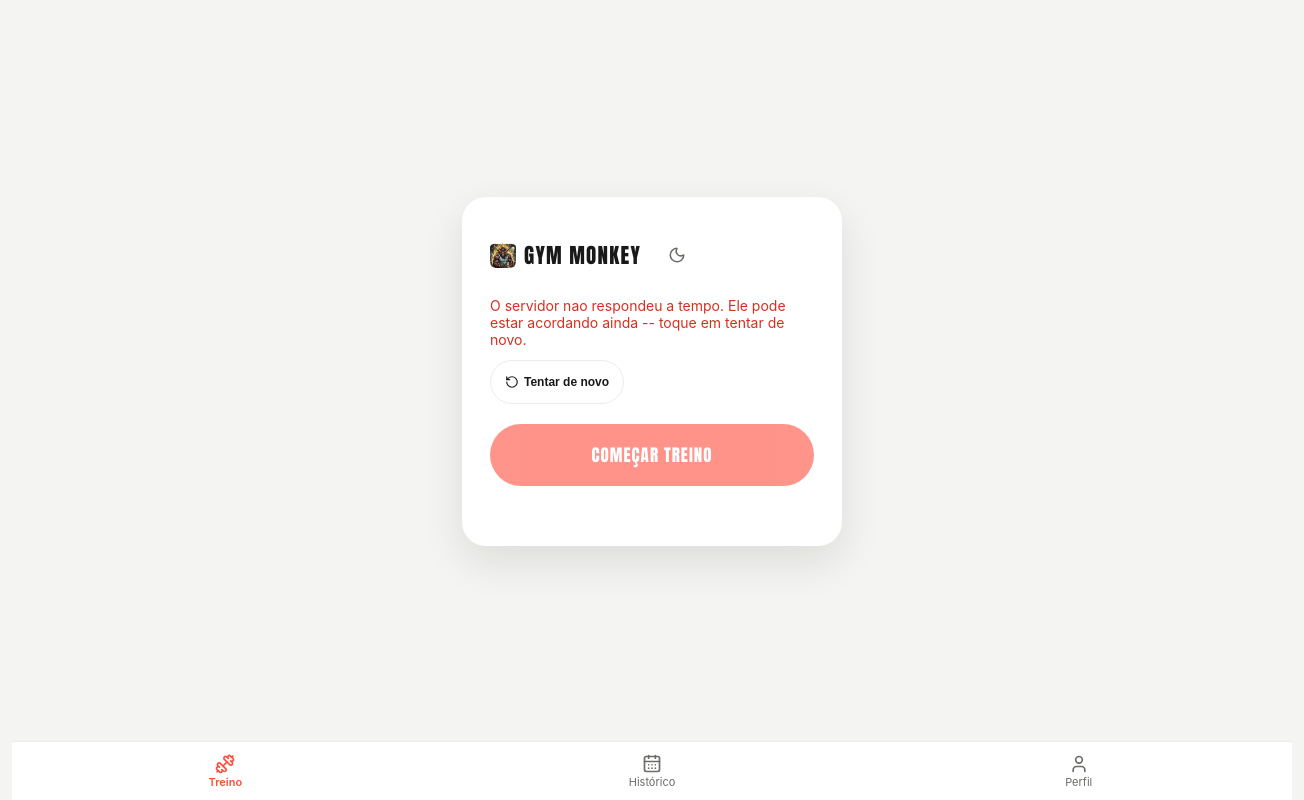
Test: PontoScreen (sessoes) › carregamento › a leitura falhada oferece uma saida, em vez de tela morta
Step 1. Click the button "Tentar de novo" → (557, 382), box [490,360,624,404]
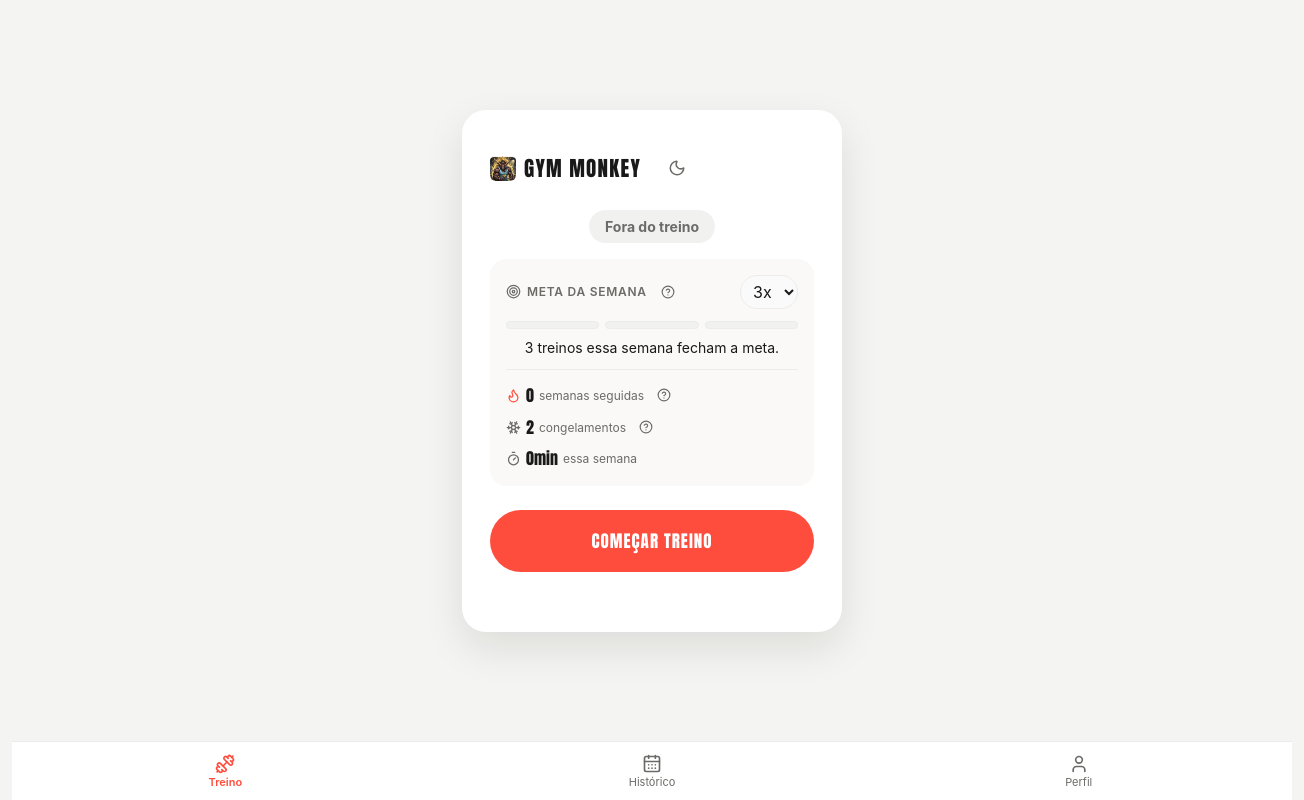
Expected: the text "Fora do treino" is shown, [589,210,715,242]
Expected: the text "acordando ainda" is gone
